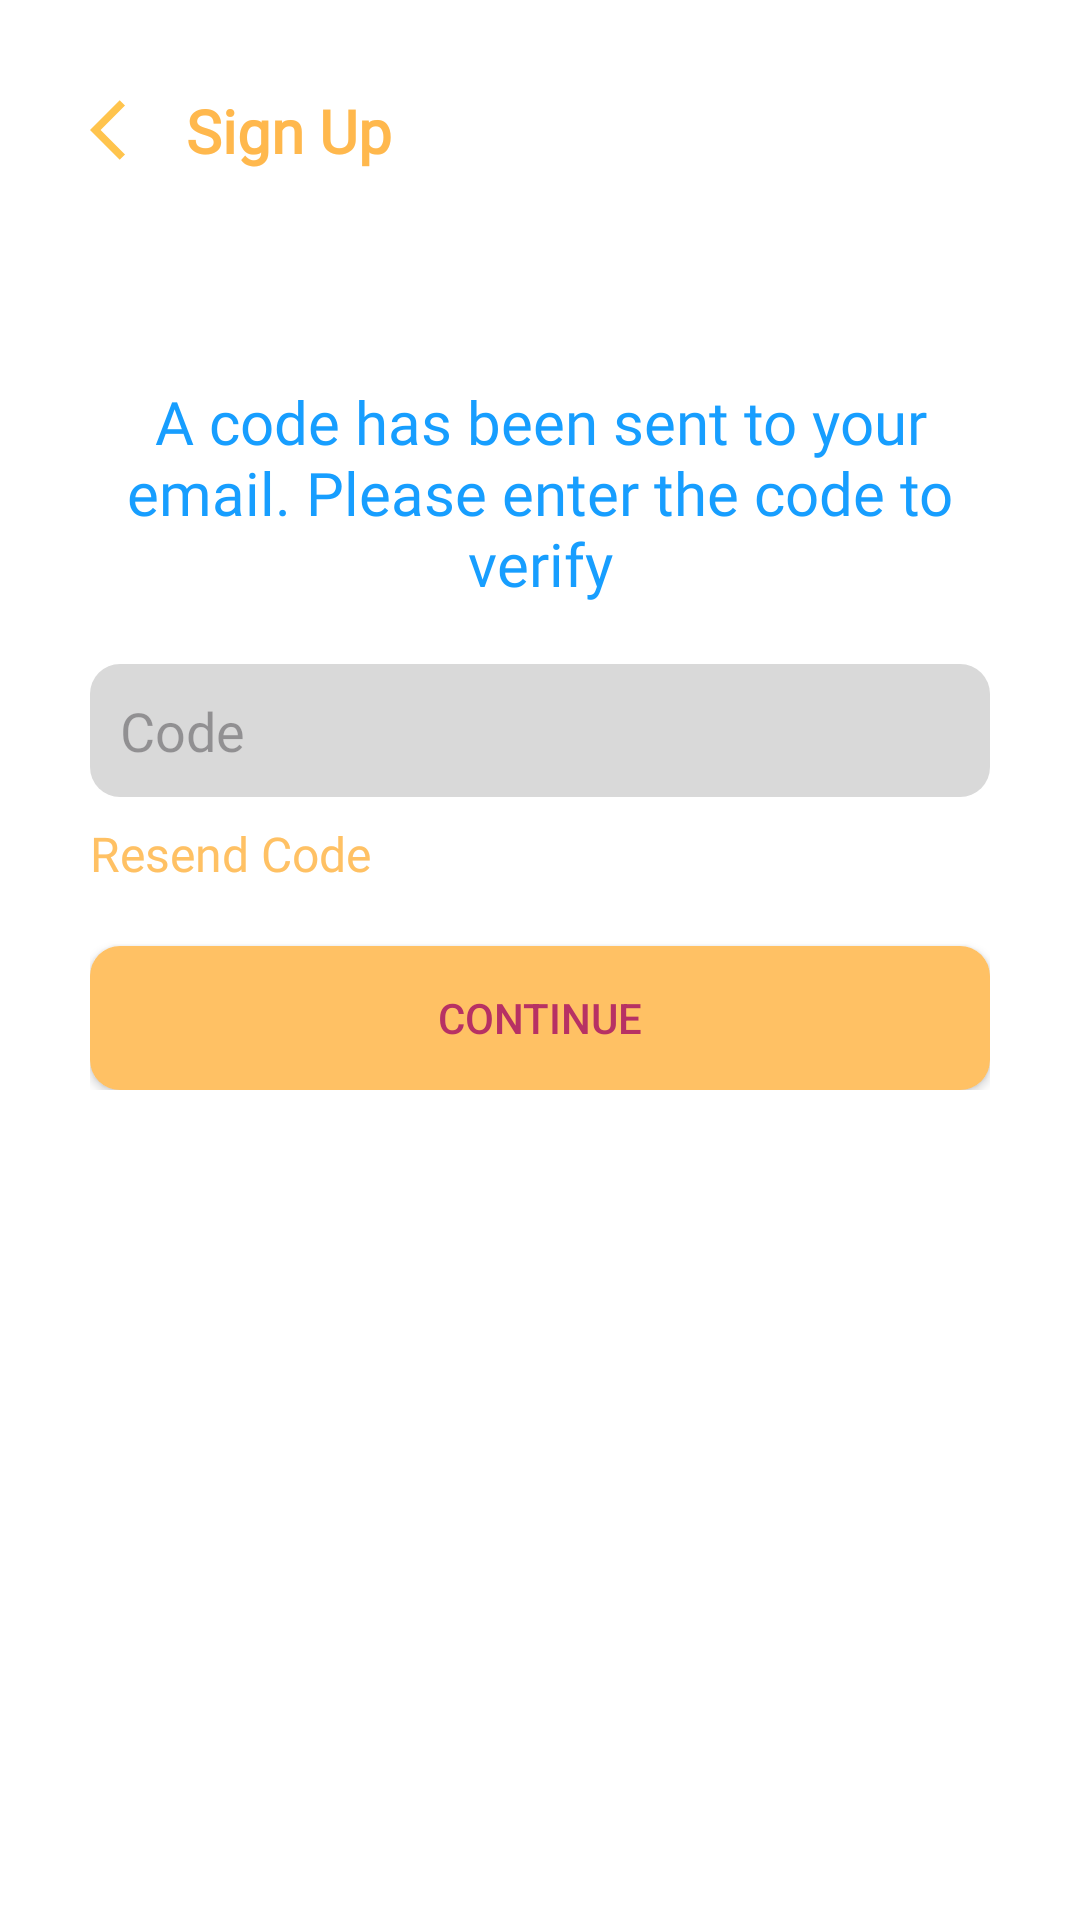

Icons on this 1080 × 1920 Android screen, each with its box as (x1, y1, x2, y2):
back: (90, 100, 125, 160)
